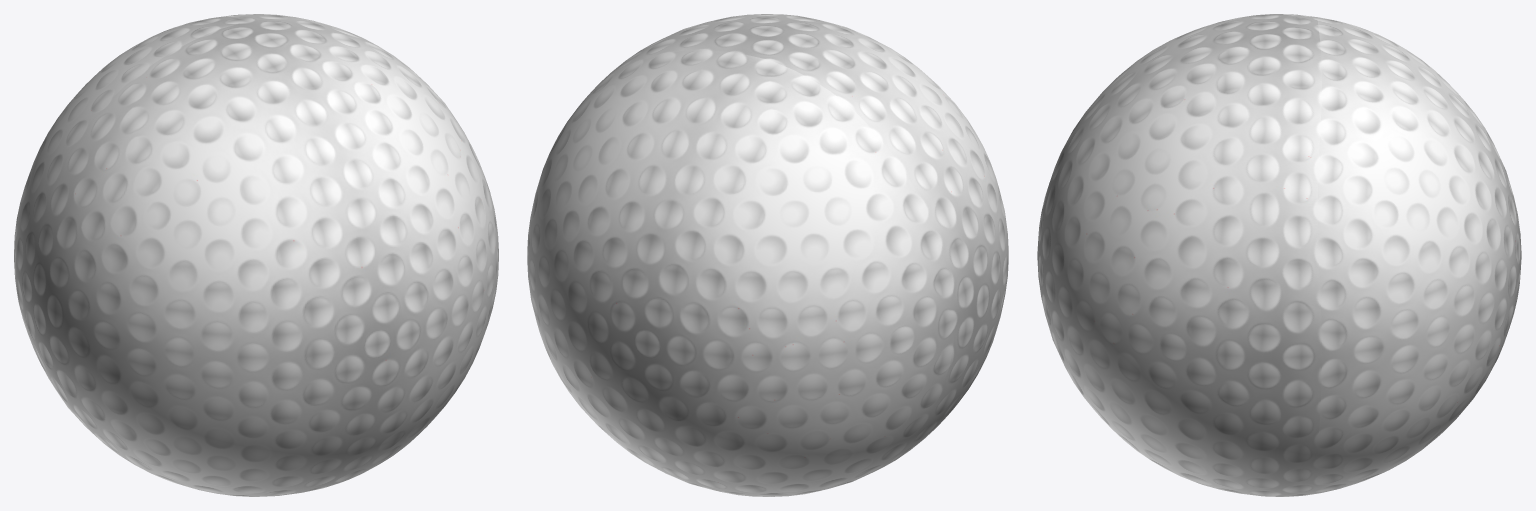
Rendered from bola.obj.
3 renders of one model, left to right at view 1: azimuth 30°, elevation 25°; view 2: azimuth 150°, elevation 25°; view 3: azimuth 270°, elevation 25°, orthographic.
Parts seen in each view (by area): view 1: 10507_Golf_Ball_v1; view 2: 10507_Golf_Ball_v1; view 3: 10507_Golf_Ball_v1.
Boxes of the visible parts, bbox=[...] form: 10507_Golf_Ball_v1: bbox=[14, 14, 498, 496]; 10507_Golf_Ball_v1: bbox=[527, 14, 1008, 496]; 10507_Golf_Ball_v1: bbox=[1037, 14, 1521, 496].
Size of the model in its own units: 4.22 by 4.23 by 4.24.
Materials: 1 (1 with a texture image).
